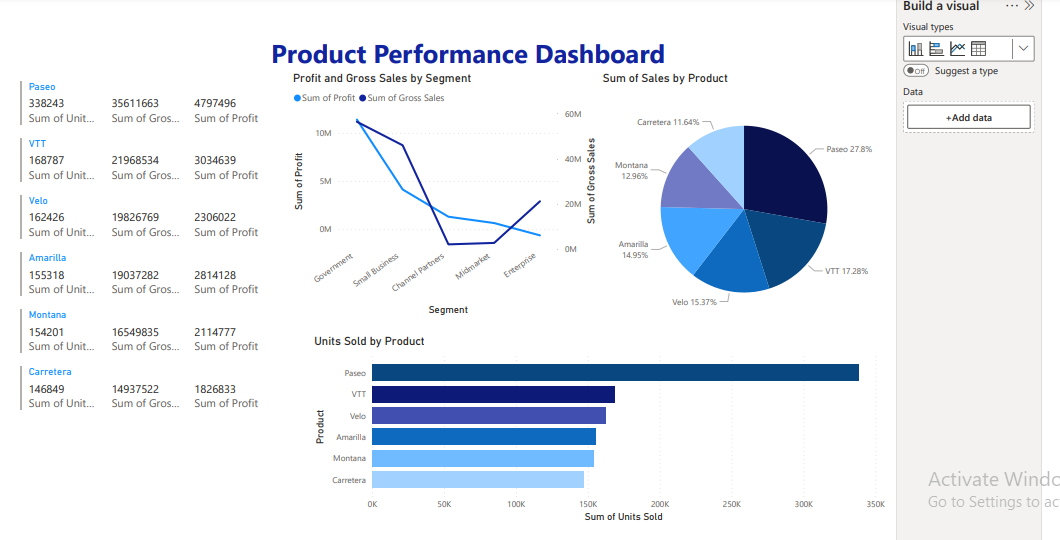

The dashboard page shown, as its layout file describes it:
{"tool":"powerbi","page":{"name":"Product Performance Dashboard","canvas":[1280,720],"ordinal":1},"visuals":[{"type":"textbox","box":[319.7,1.4,673.9,66.2],"z":0},{"type":"multiRowCard","fields":{"Values":["Sum(financials.Units Sold)","Sum(financials.Gross Sales)","financials.Product","Sum(financials.Profit)"]},"box":[0,67.7,384.5,652.3],"z":1000},{"type":"barChart","fields":{"Category":["financials.Product"],"Y":["Sum(financials.Units Sold)"]},"box":[427.7,440.6,841,279.4],"z":2000},{"type":"pieChart","fields":{"Category":["financials.Product"],"Y":["Sum(financials. Sales)"]},"box":[848.2,57.6,420.5,383],"z":3000},{"type":"lineChart","fields":{"Y":["Sum(financials.Profit)"],"Y2":["Sum(financials.Gross Sales)"],"Category":["financials.Segment"]},"box":[397.4,57.6,450.7,360],"z":4000}]}

Visuals, with their boxes on the page's 1280x720 design canvas (x1, y1, x2, y2). These are canvas units, not pixel positions in the 1060x540 screenshot, which may show the page scaled, cropped or inside an application window:
textbox: l=320, t=1, r=994, b=68
multiRowCard - Sum(financials.Units Sold) x Sum(financials.Gross Sales): l=0, t=68, r=384, b=720
barChart - financials.Product x Sum(financials.Units Sold): l=428, t=441, r=1269, b=720
pieChart - financials.Product x Sum(financials. Sales): l=848, t=58, r=1269, b=441
lineChart - Sum(financials.Profit) x Sum(financials.Gross Sales): l=397, t=58, r=848, b=418
